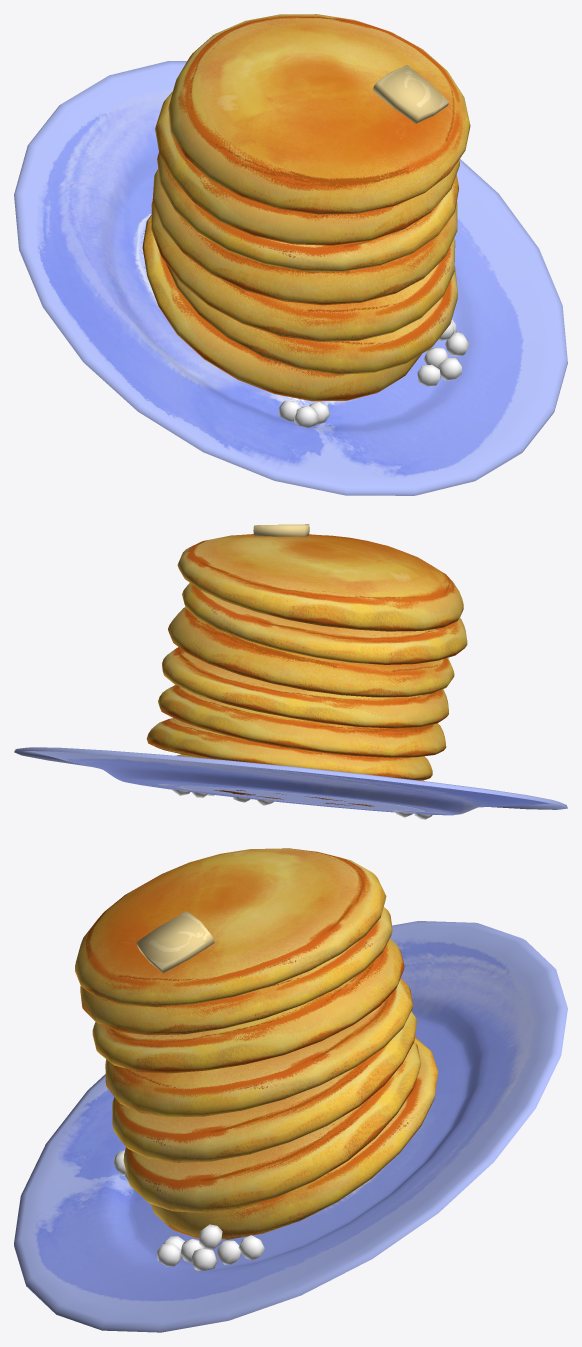
Rendered from pancakebeauty.glb.
3 renders of one model, top to bottom at view 1: azimuth 30°, elevation 25°; view 2: azimuth 150°, elevation 25°; view 3: azimuth 270°, elevation 25°, orthographic. The views are drawn at different scales.
Visible parts, largest first — view 1: GEO.Plate, GEO.Pancake.006, GEO.Pancake.002, GEO.Pancake.003, GEO.Pancake.005, GEO.Pancake, GEO.Pancake.001, GEO.Pancake.004, GEO.Butter; view 2: GEO.Pancake.006, GEO.Plate, GEO.Pancake.004, GEO.Pancake.005, GEO.Pancake.003, GEO.Pancake.002, GEO.Pancake.001, GEO.Butter; view 3: GEO.Plate, GEO.Pancake.006, GEO.Pancake.001, GEO.Pancake.003, GEO.Pancake.002, GEO.Pancake.004, GEO.Pancake, GEO.Pancake.005, GEO.Butter.
Boxes of the visible parts, box(x1,y1,x2,y2) form: GEO.Plate: box(14, 61, 567, 495); GEO.Pancake.006: box(168, 14, 470, 214); GEO.Pancake.002: box(151, 201, 455, 341); GEO.Pancake.003: box(152, 169, 457, 305); GEO.Pancake.005: box(155, 91, 459, 245); GEO.Pancake: box(142, 215, 421, 401); GEO.Pancake.001: box(166, 263, 457, 374); GEO.Pancake.004: box(157, 152, 458, 271); GEO.Butter: box(372, 65, 448, 123); GEO.Pancake.006: box(177, 534, 463, 631); GEO.Plate: box(14, 747, 567, 815); GEO.Pancake.004: box(168, 607, 454, 697); GEO.Pancake.005: box(182, 583, 467, 664); GEO.Pancake.003: box(162, 647, 448, 728); GEO.Pancake.002: box(158, 685, 446, 757); GEO.Pancake.001: box(146, 718, 432, 780); GEO.Butter: box(253, 524, 309, 536); GEO.Plate: box(14, 921, 567, 1332); GEO.Pancake.006: box(75, 848, 386, 1007); GEO.Pancake.001: box(123, 1042, 421, 1212); GEO.Pancake.003: box(105, 978, 413, 1117); GEO.Pancake.002: box(112, 1011, 416, 1162); GEO.Pancake.004: box(92, 938, 404, 1073); GEO.Pancake: box(151, 1037, 438, 1239); GEO.Pancake.005: box(80, 907, 392, 1035); GEO.Butter: box(136, 911, 214, 973).
Bounding box in the file's own units: 0.236 × 0.1594 × 0.214.
4 materials, 3 textured.
